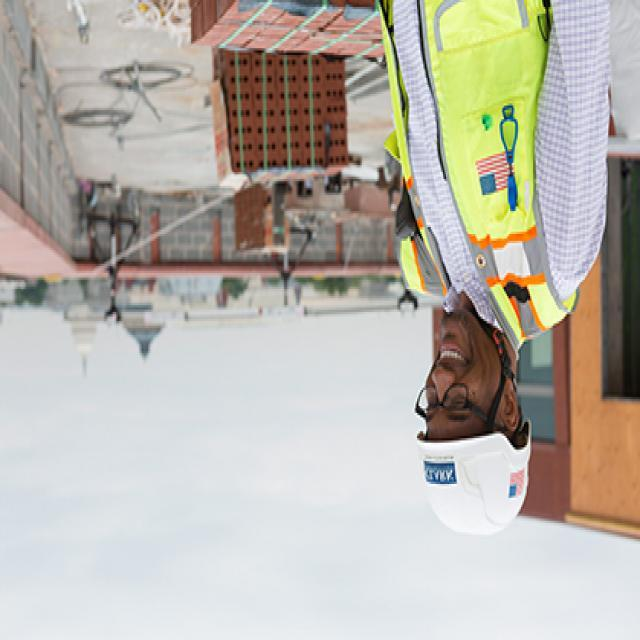safetyhelmet: (412, 366, 540, 539)
